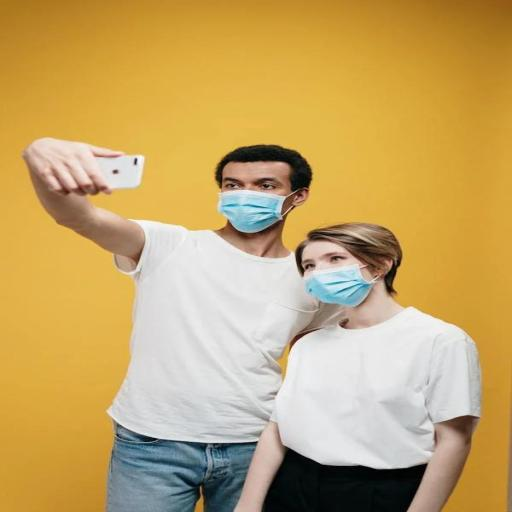mask: (281, 231, 414, 321), (198, 146, 325, 232)
